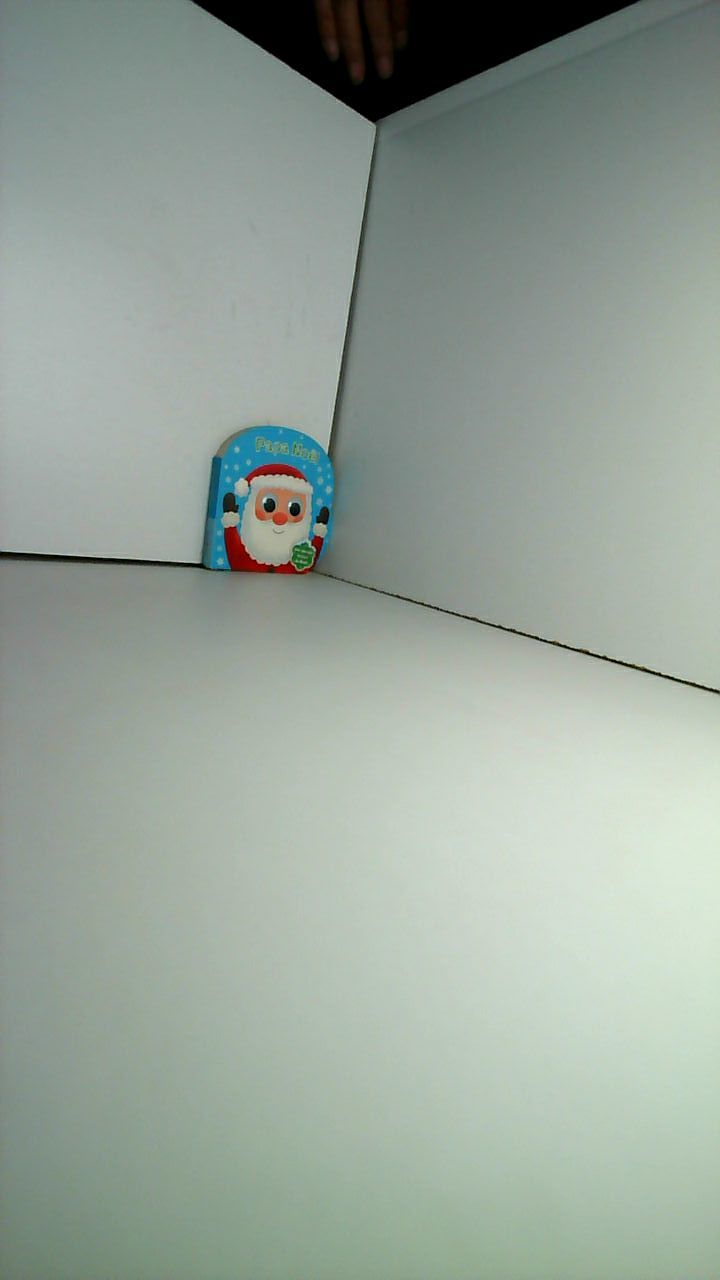book: (181, 402, 354, 607)
